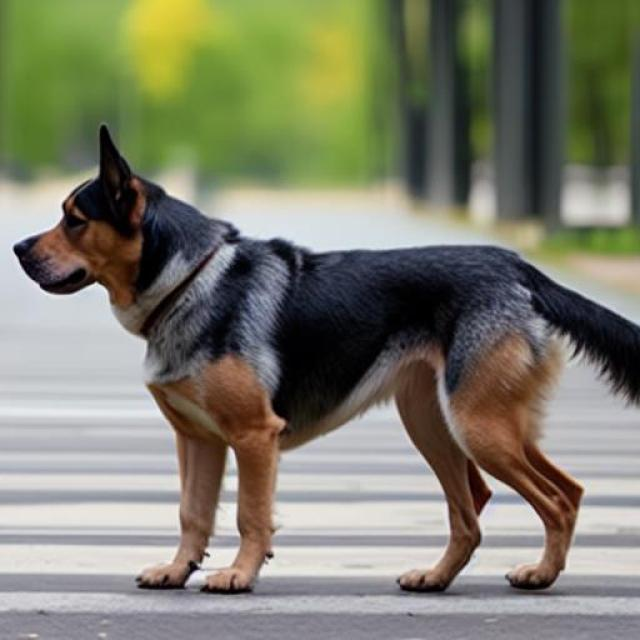Dog: (11, 123, 640, 593)
